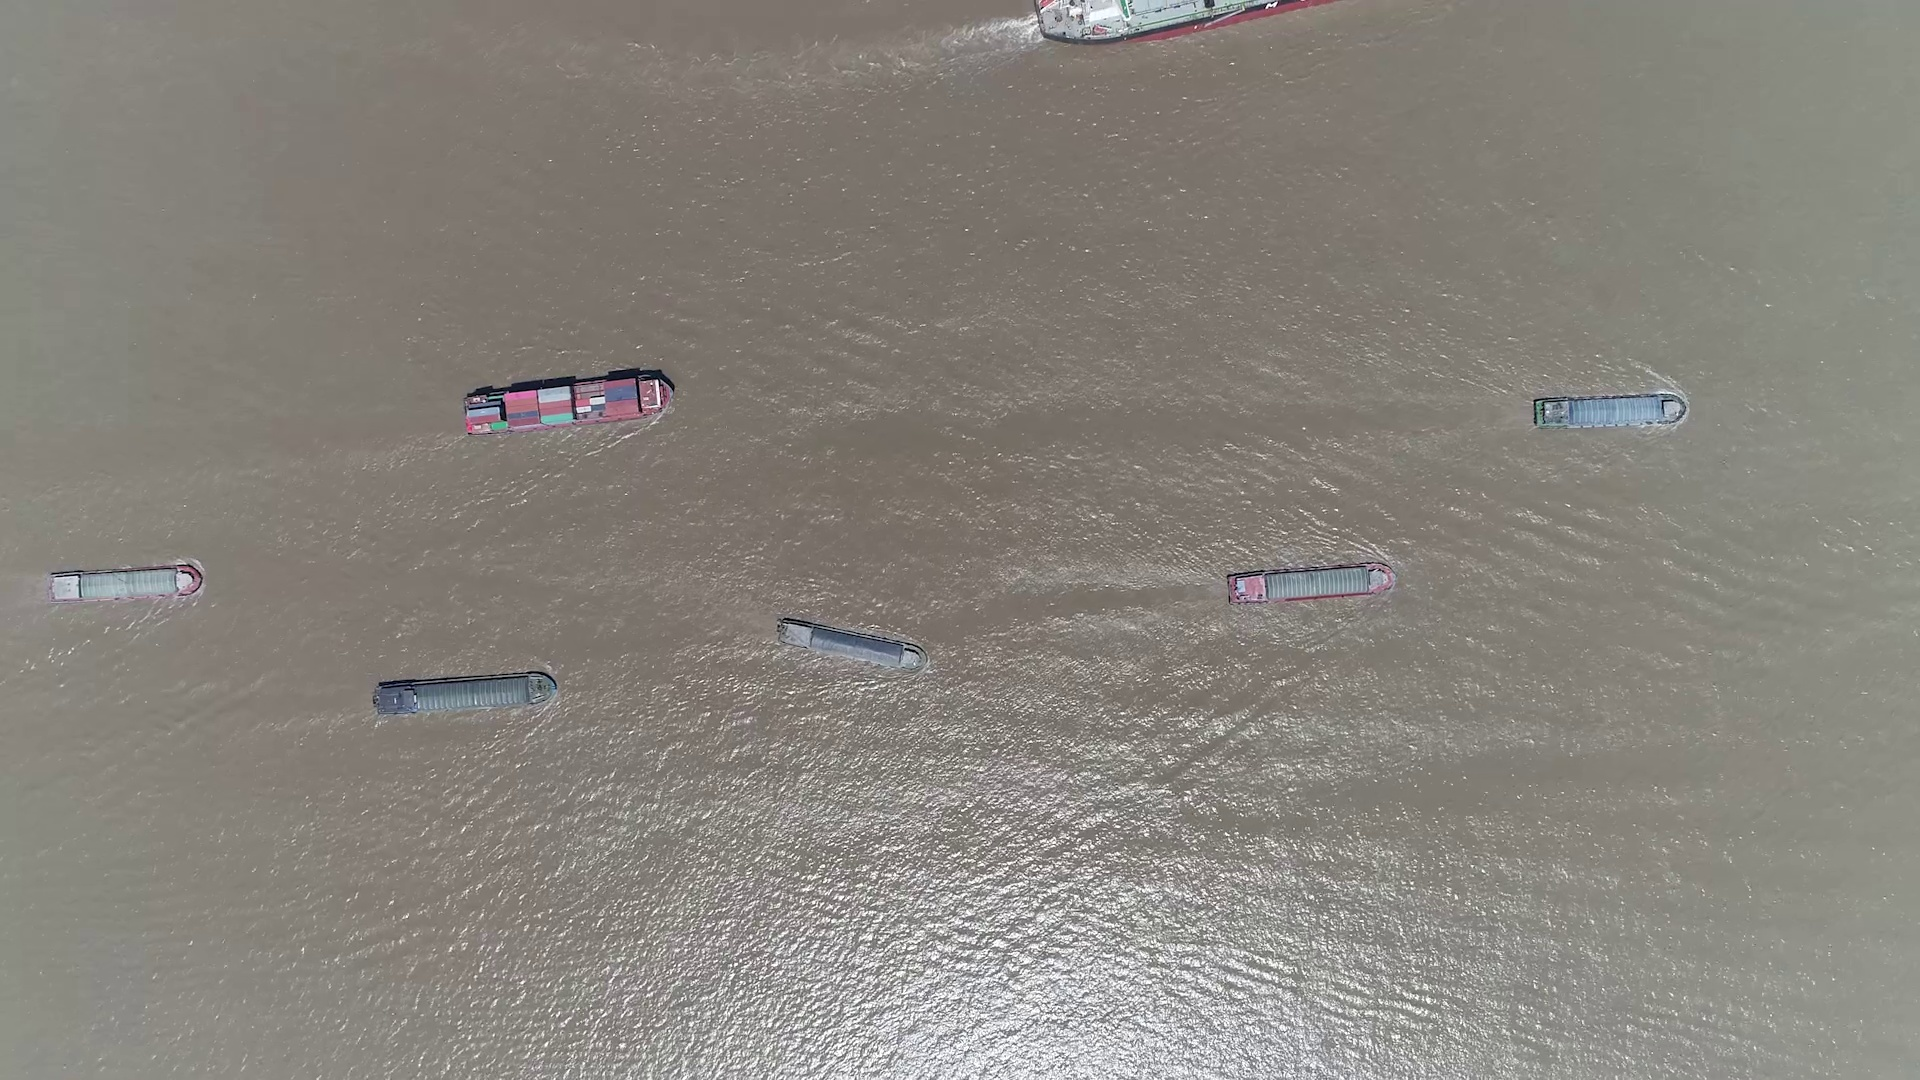ship: (462, 369, 675, 436), (1038, 3, 1320, 40), (373, 673, 558, 717), (775, 616, 924, 670), (1228, 562, 1396, 605), (47, 566, 203, 603), (1531, 393, 1687, 429)
